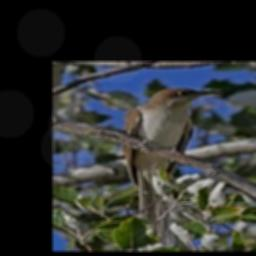Cuckoo: (122, 88, 221, 241)
